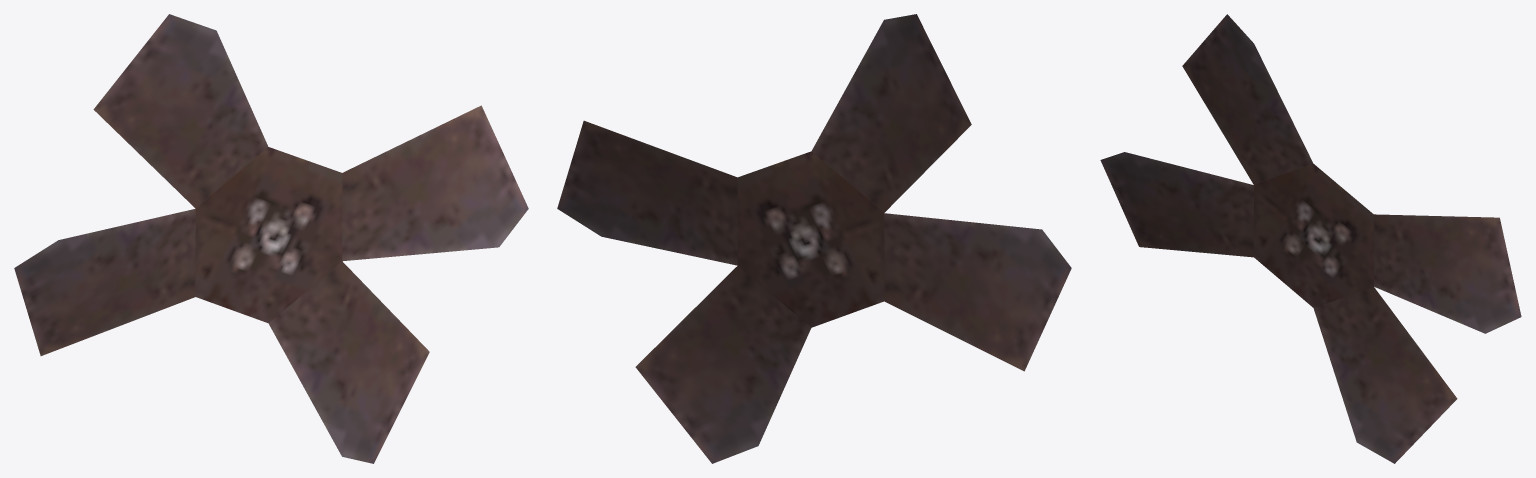
The model's file is coolingfan_1.fbx.
3 renders of one model, left to right at view 1: azimuth 30°, elevation 25°; view 2: azimuth 150°, elevation 25°; view 3: azimuth 330°, elevation 25°, orthographic. The views are drawn at different scales.
Parts seen in each view (by area): view 1: coolingfan_1; view 2: coolingfan_1; view 3: coolingfan_1.
Boxes of the visible parts, x1,y1,x2,y2 form: coolingfan_1: [14, 14, 528, 463]; coolingfan_1: [557, 14, 1071, 463]; coolingfan_1: [1100, 14, 1521, 463].
Size of the model in its own units: 48.8 by 45.3 by 2.9.
